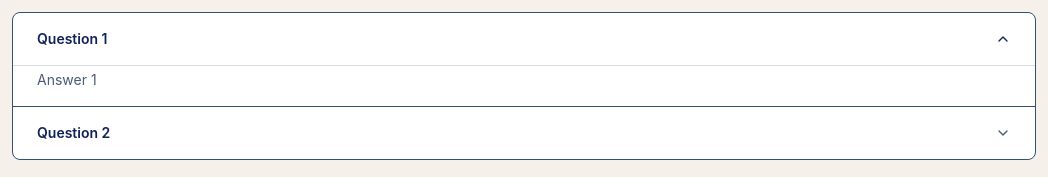
Test: Accordion Component › renders single-mode accordion and expands/collapses on click
Expected: the text "Answer 1" is shown, [13,65,1035,106]
Expected: the text "Answer 2" is not shown
Click the button "Question 2" at (74, 132), box [13,107,1035,159]
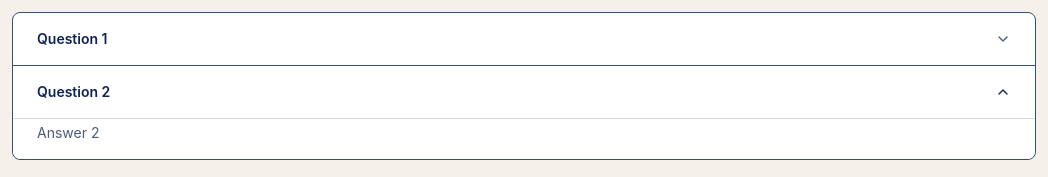
Expected: the text "Answer 2" is shown, [13,118,1035,159]
Expected: the text "Answer 1" is gone
